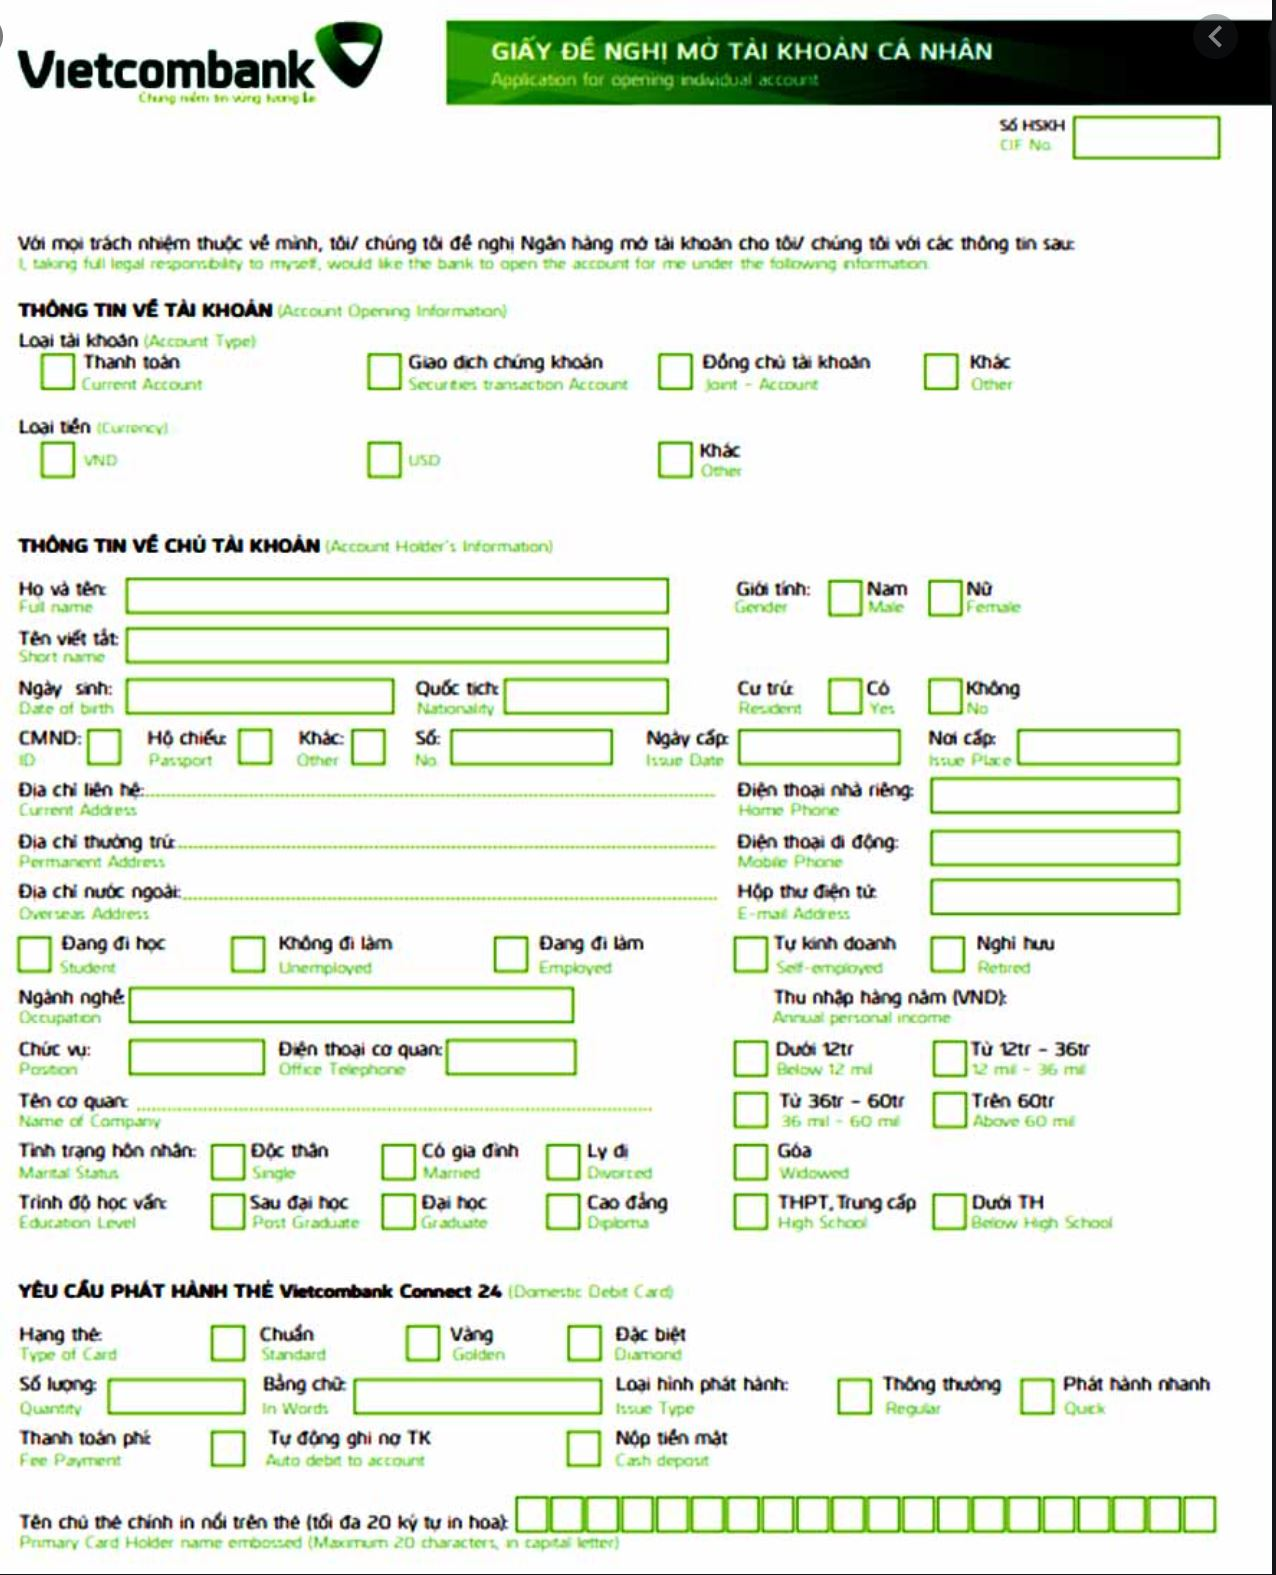box: (829, 1373, 878, 1421), (204, 1427, 251, 1473), (1016, 1371, 1059, 1421), (922, 575, 967, 622), (82, 724, 128, 771), (401, 1320, 445, 1367), (926, 929, 969, 978), (562, 1319, 605, 1367), (363, 348, 406, 394), (228, 929, 270, 978), (919, 348, 964, 392), (363, 437, 408, 482), (13, 933, 56, 979), (727, 932, 770, 978), (378, 1190, 421, 1235), (655, 435, 697, 482), (823, 674, 866, 719), (922, 674, 965, 719), (730, 1087, 773, 1131), (928, 1088, 971, 1132), (348, 722, 389, 768), (543, 1139, 585, 1185), (824, 577, 867, 620), (730, 1142, 773, 1185), (928, 1188, 971, 1231), (490, 933, 531, 978), (542, 1188, 583, 1233), (207, 1192, 249, 1235), (38, 437, 78, 482), (730, 1188, 771, 1233), (730, 1037, 770, 1083), (208, 1319, 247, 1364), (233, 726, 273, 769), (930, 1035, 970, 1078), (378, 1142, 418, 1185), (564, 1427, 604, 1470), (656, 349, 695, 390), (39, 350, 77, 392), (210, 1143, 247, 1185)
